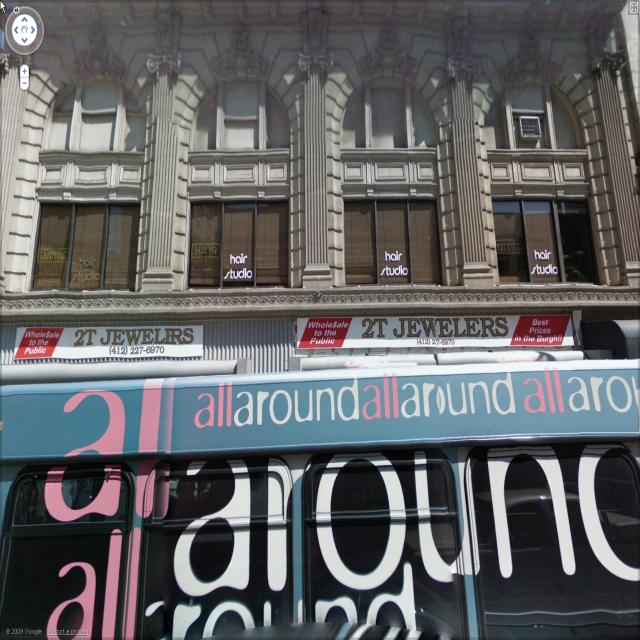b_1: (2, 5, 640, 468)
